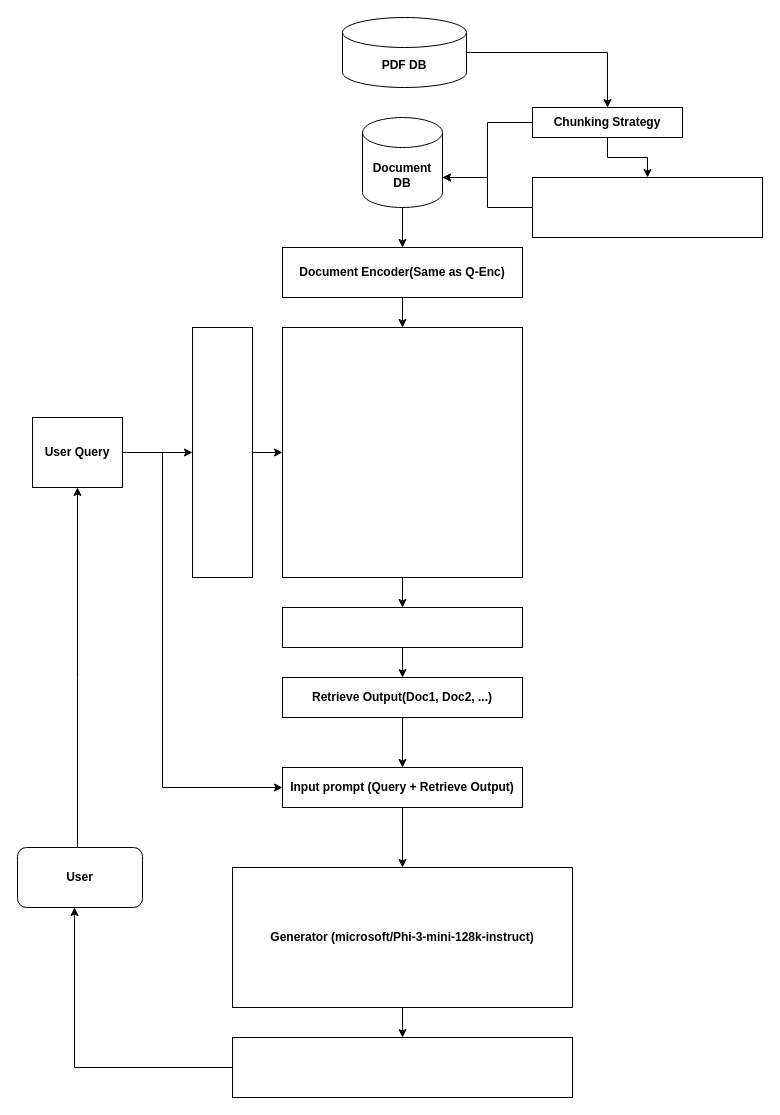
This 780x1115 diagram has some shape labels left out. Each missing label, with the centre of its shape:
"Document Embedding DB" goes at point (402, 452).
"Generate Question-Document Dataset (Google Gemini API)" goes at point (647, 207).
"Generated Answer" goes at point (402, 1067).
"Query Encoder (Fine-Tuned)" goes at point (222, 452).
"Re-Rank" goes at point (402, 627).
